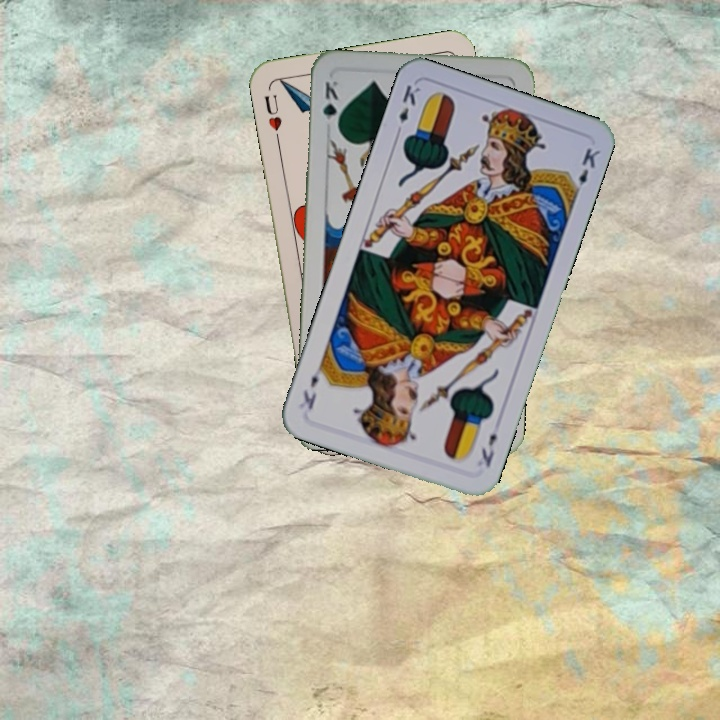EK: (391, 81, 423, 139), (477, 429, 500, 470)
GK: (318, 77, 341, 134)
HU: (260, 90, 285, 144)
